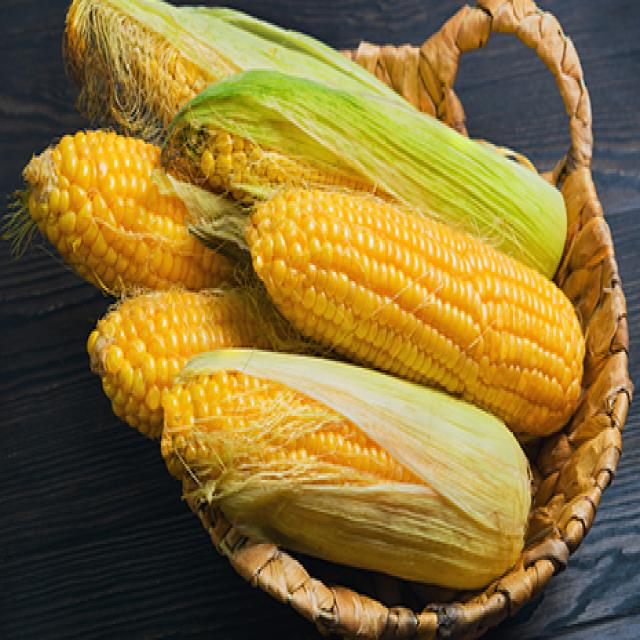corn: (86, 276, 542, 575), (237, 169, 588, 436), (18, 134, 256, 297)
